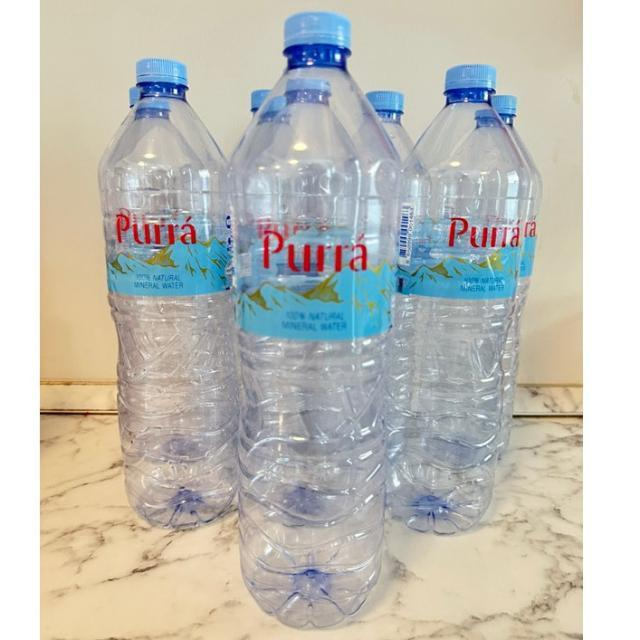PET Bottle: (221, 2, 394, 633), (371, 35, 539, 542), (89, 46, 249, 540)
